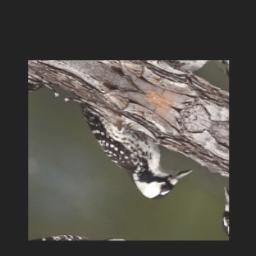Woodpecker: (55, 95, 202, 214)
